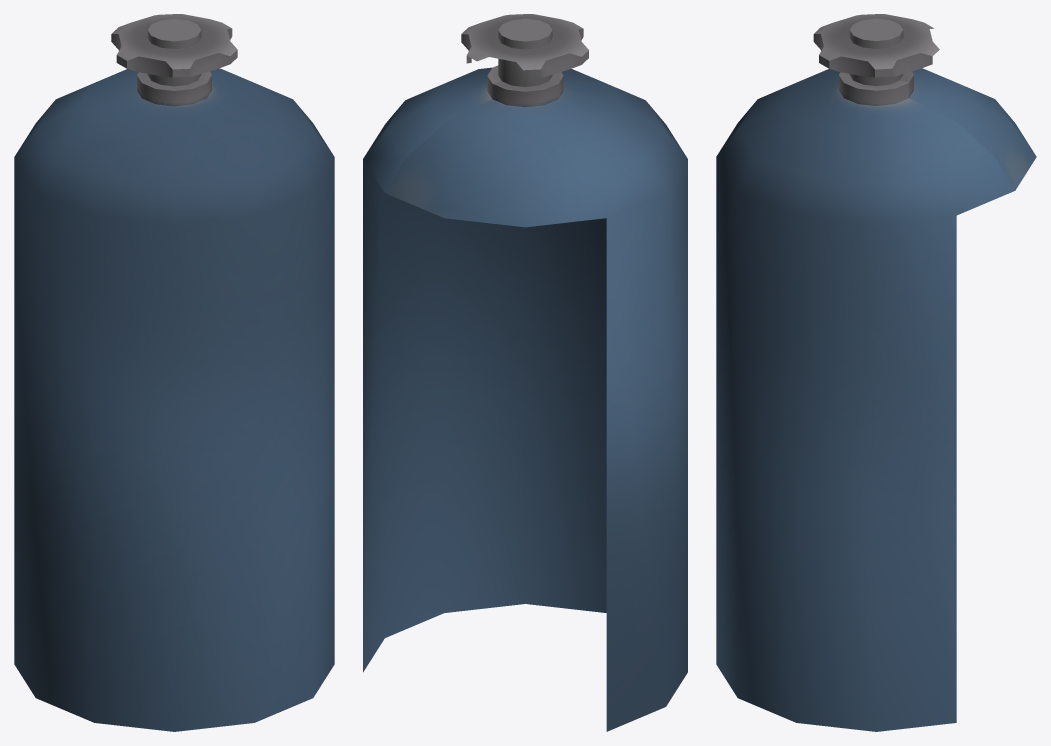
File: Cistern.fbx
3 views of the same model, side by side, from view 1: azimuth 30°, elevation 25°; view 2: azimuth 150°, elevation 25°; view 3: azimuth 270°, elevation 25° (orthographic).
Visible parts, largest first — view 1: Cylinder; view 2: Cylinder; view 3: Cylinder.
Part boxes in pixels (x1=…): Cylinder: x1=14, y1=14, x2=334, y2=731; Cylinder: x1=363, y1=14, x2=687, y2=731; Cylinder: x1=716, y1=14, x2=1036, y2=731.
Size of the model in its own units: 200 by 437 by 200.
